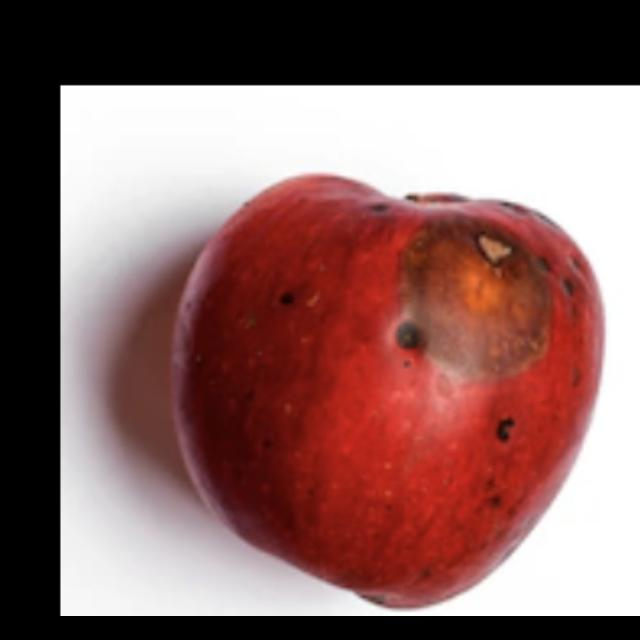Apel Tidak Segar: (161, 158, 613, 616)
